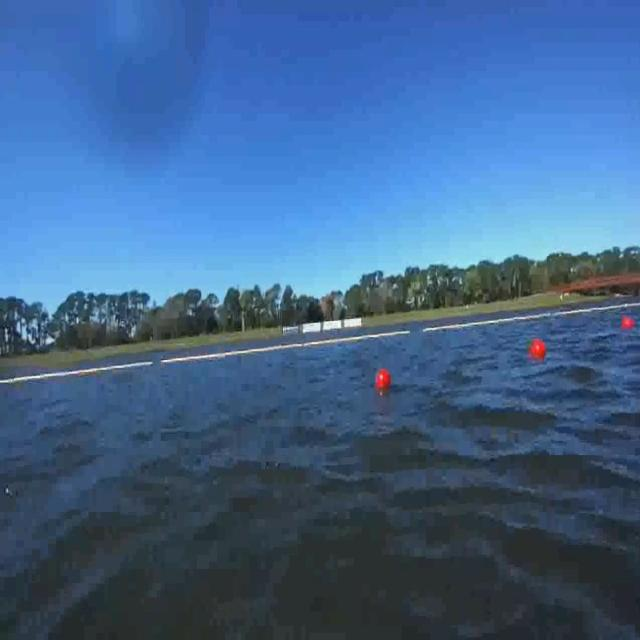red-buoy: (532, 340, 550, 362), (377, 369, 392, 391), (622, 317, 636, 330)
